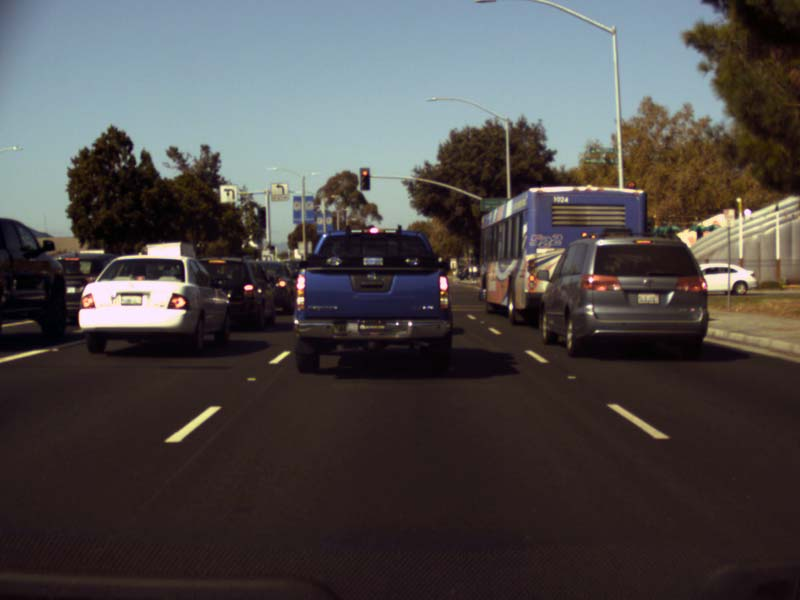Red: (627, 180, 635, 205), (360, 167, 368, 189)
